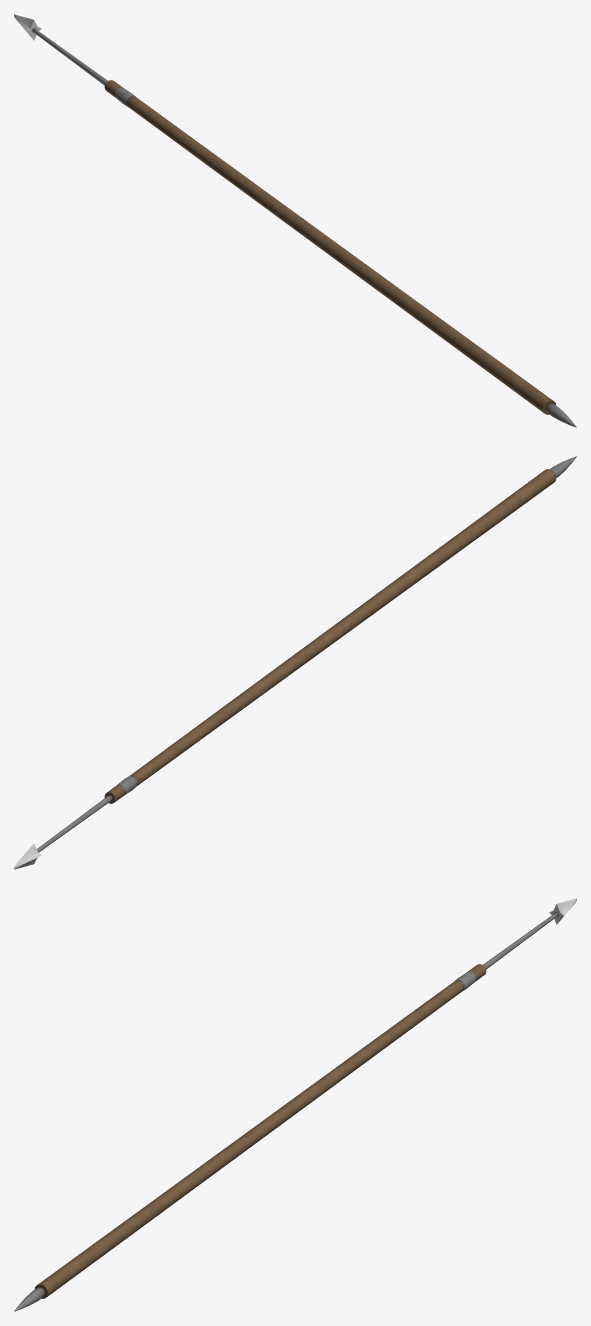
Rendered from spiculum.glb.
3 views of the same model, one above another, from view 1: azimuth 30°, elevation 25°; view 2: azimuth 150°, elevation 25°; view 3: azimuth 330°, elevation 25° (orthographic).
Parts seen in each view (by area): view 1: spiculum; view 2: spiculum; view 3: spiculum.
Boxes of the visible parts, x1,y1,x2,y2 form: spiculum: [14, 14, 576, 427]; spiculum: [14, 456, 576, 869]; spiculum: [14, 898, 576, 1311].
Bounding box in the file's own units: 0.034 × 0.0461 × 2.23.
Materials: 1 (1 with a texture image).
